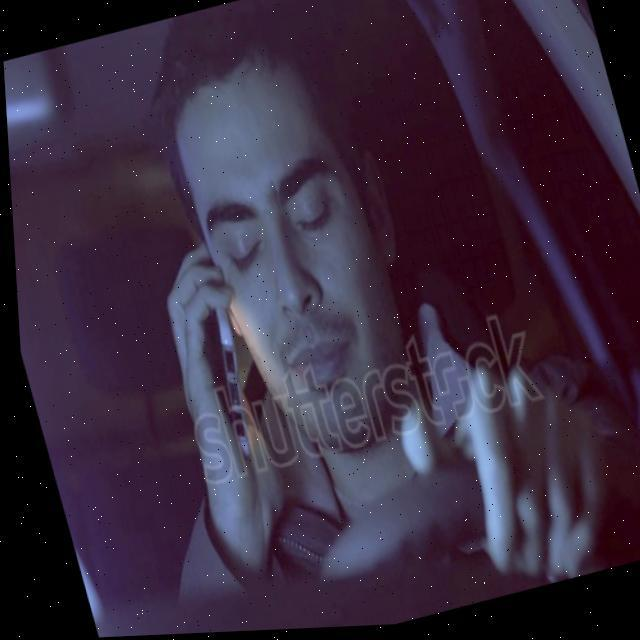PhoneCall: (168, 252, 270, 470)
